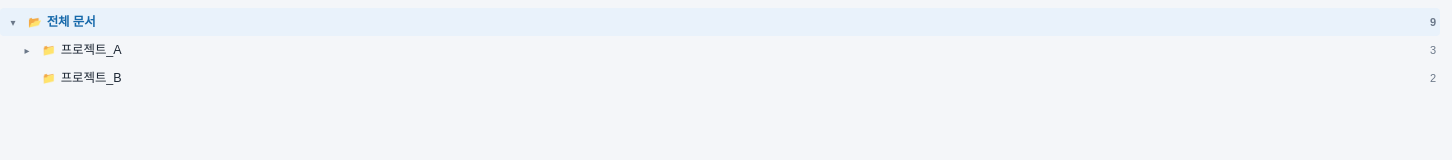
Test case: FolderTree › starts collapsed and expands on demand
This screenshot has width=1452, height=160.
Expected: the text "요구사항" is not shown
Click the button named "프로젝트_A 펼치기" at (27, 50), box [18,39,36,61]
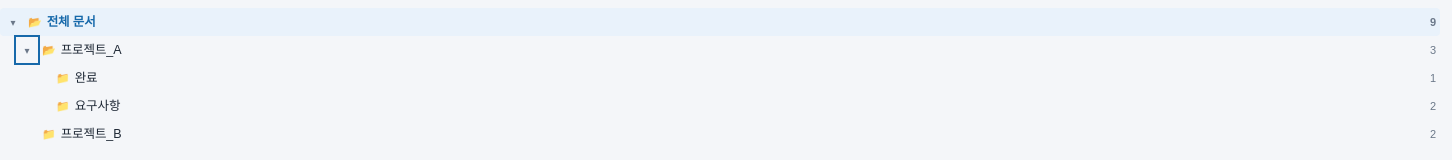
Now the button "📁 요구사항 2" is shown, box [52,93,1440,119]
